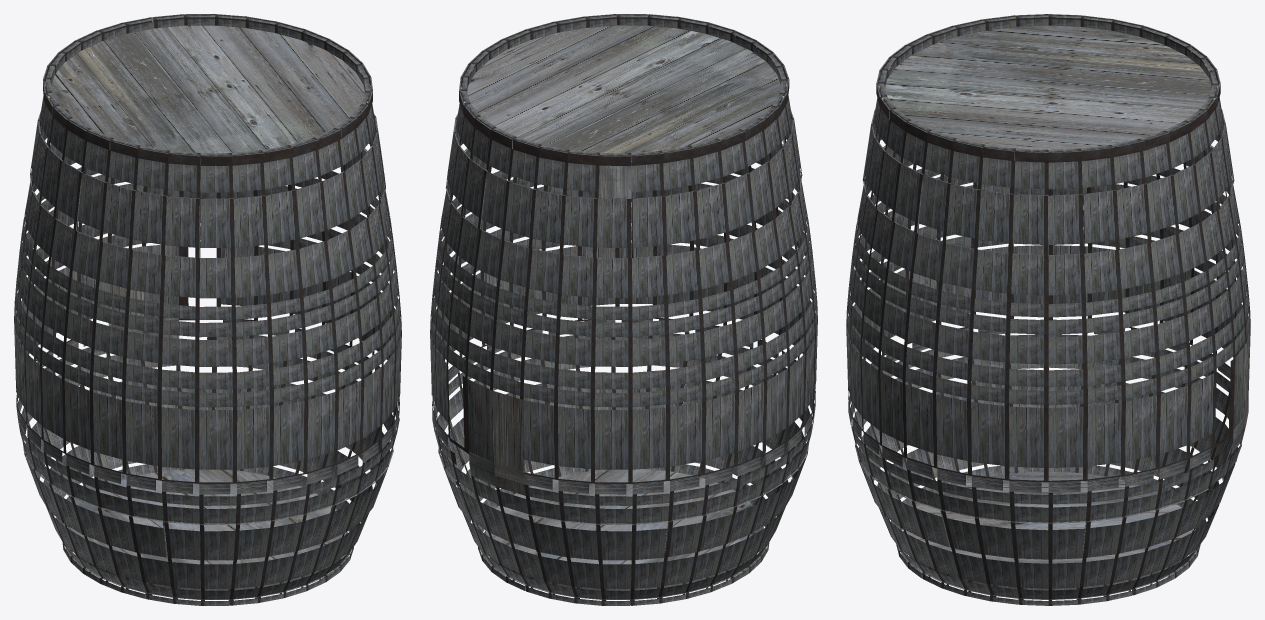
Rendered from Barrel.fbx.
The picture shows the model from 3 angles, left to right: view 1: azimuth 30°, elevation 25°; view 2: azimuth 150°, elevation 25°; view 3: azimuth 270°, elevation 25°; orthographic projection.
Visible parts, largest first — view 1: Cylinder; view 2: Cylinder; view 3: Cylinder.
Part boxes in pixels (left/top/right/bottom): Cylinder: left=14, top=14, right=401, bottom=605; Cylinder: left=430, top=14, right=817, bottom=605; Cylinder: left=846, top=14, right=1250, bottom=605.
Bounding box in the file's own units: 219 × 288 × 229.
